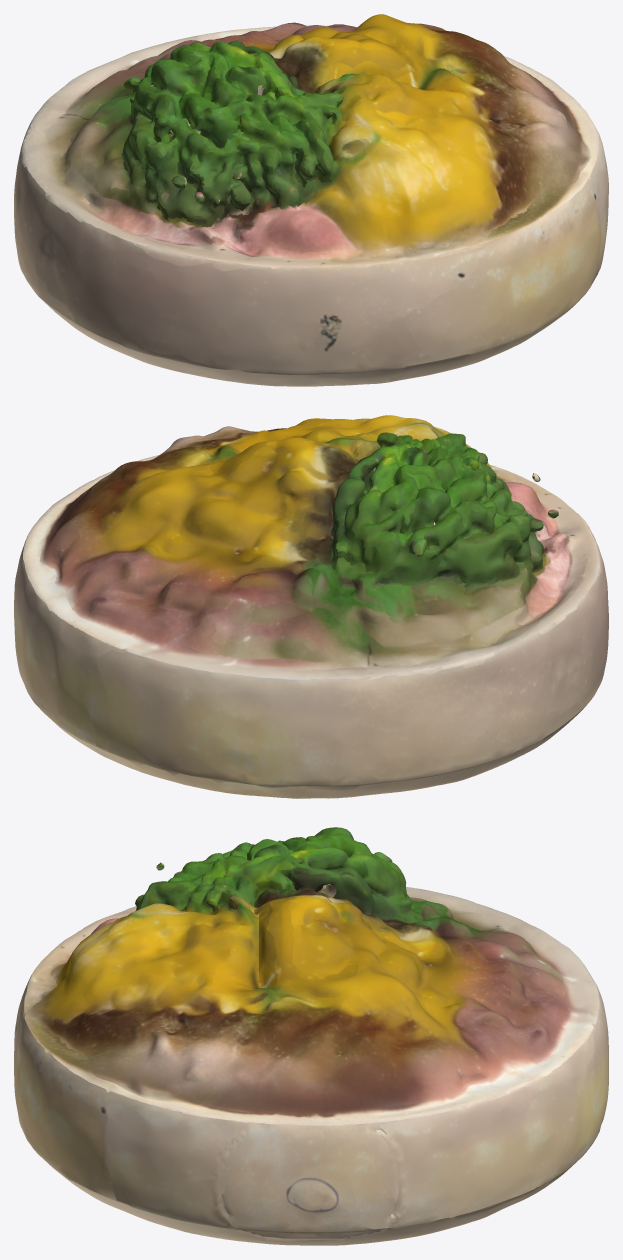
File: durianChendol.fbx
3 renders of one model, top to bottom at view 1: azimuth 30°, elevation 25°; view 2: azimuth 150°, elevation 25°; view 3: azimuth 270°, elevation 25°, orthographic.
Visible parts, largest first — view 1: tmpkvud5pts.ply; view 2: tmpkvud5pts.ply; view 3: tmpkvud5pts.ply.
Part boxes in pixels (x1,y1,x2,y2): tmpkvud5pts.ply: (14,14,608,386); tmpkvud5pts.ply: (14,415,608,798); tmpkvud5pts.ply: (14,827,608,1245).
Bounding box in the file's own units: 197 × 90.66 × 196.
